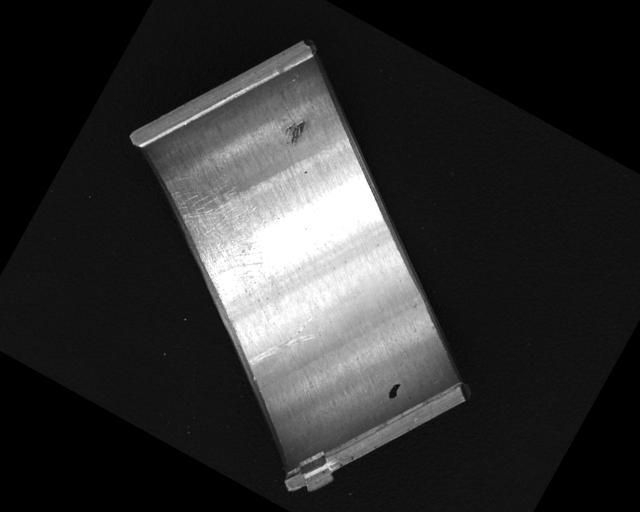blot: (384, 379, 403, 402)
bruise: (279, 114, 310, 150)
nick: (245, 297, 324, 386)
scratch: (132, 155, 306, 314)
